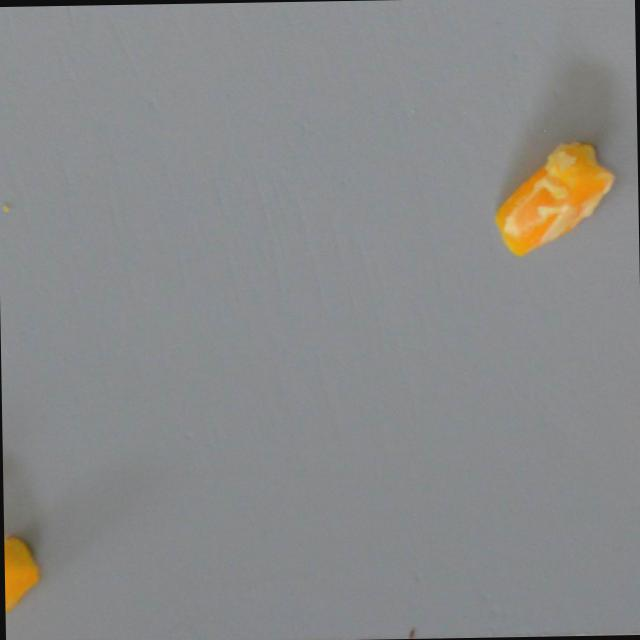pelicula: (487, 137, 617, 257), (4, 531, 39, 625)
